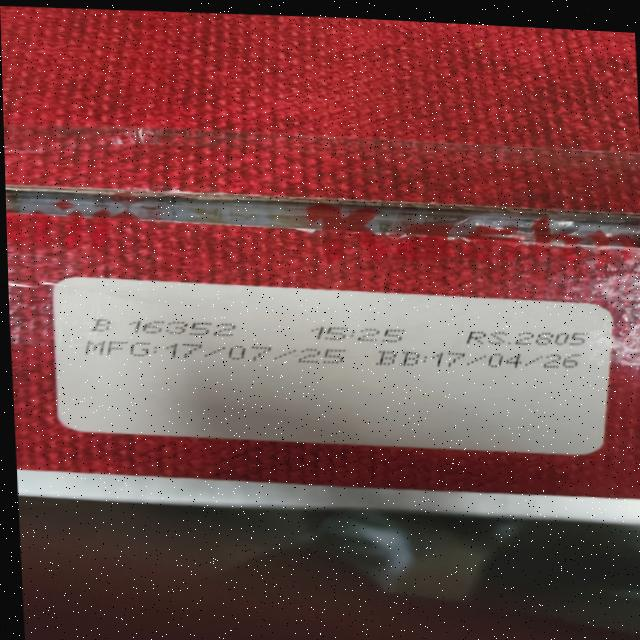BB: (378, 345, 596, 383)
Batch: (90, 310, 251, 347)
MFG: (80, 333, 352, 377)
RS: (465, 323, 598, 355)
TimeStamp: (308, 319, 415, 349)
